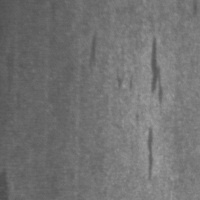inclusion: (149, 35, 165, 106), (143, 125, 157, 183), (83, 31, 100, 75), (114, 72, 136, 94)
